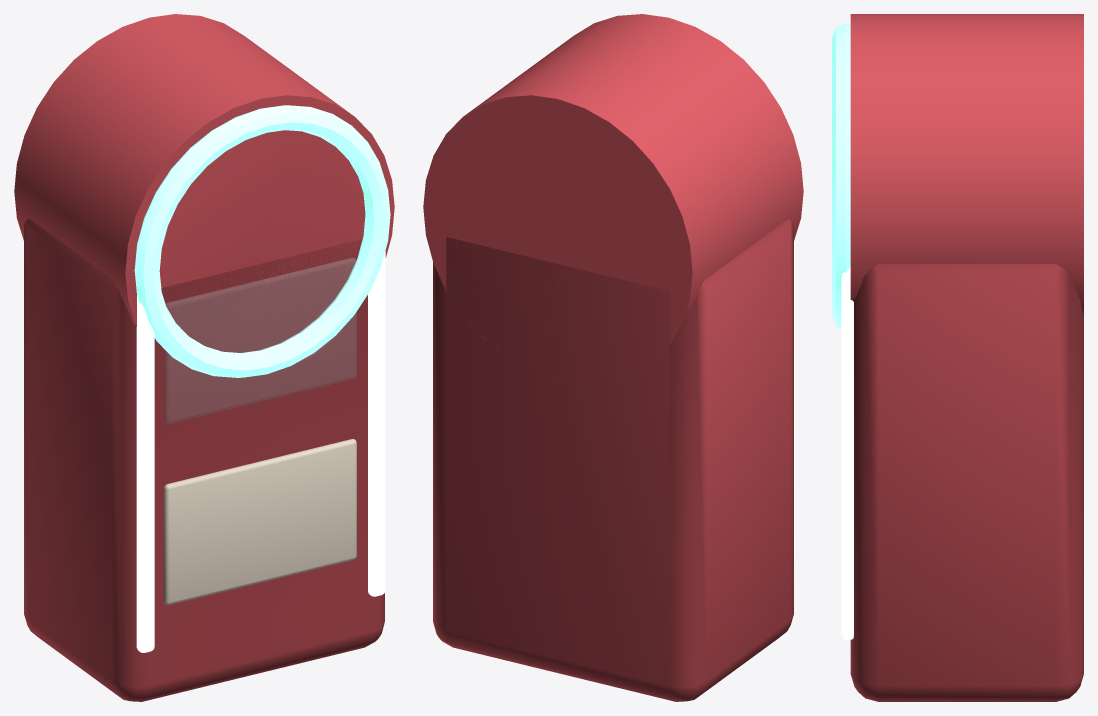
File: retro-diner--jukebox.glb
The picture shows the model from 3 angles, left to right: view 1: azimuth 30°, elevation 25°; view 2: azimuth 150°, elevation 25°; view 3: azimuth 270°, elevation 25°; orthographic projection. The views are drawn at different scales.
Visible parts, largest first — view 1: retro-diner--jukebox; view 2: retro-diner--jukebox; view 3: retro-diner--jukebox.
Part boxes in pixels (box(x1,y1,x2,y2)): retro-diner--jukebox: box(14, 14, 394, 701); retro-diner--jukebox: box(423, 14, 803, 701); retro-diner--jukebox: box(832, 14, 1083, 701).
Size of the model in its own units: 0.7 by 1.45 by 0.54.
